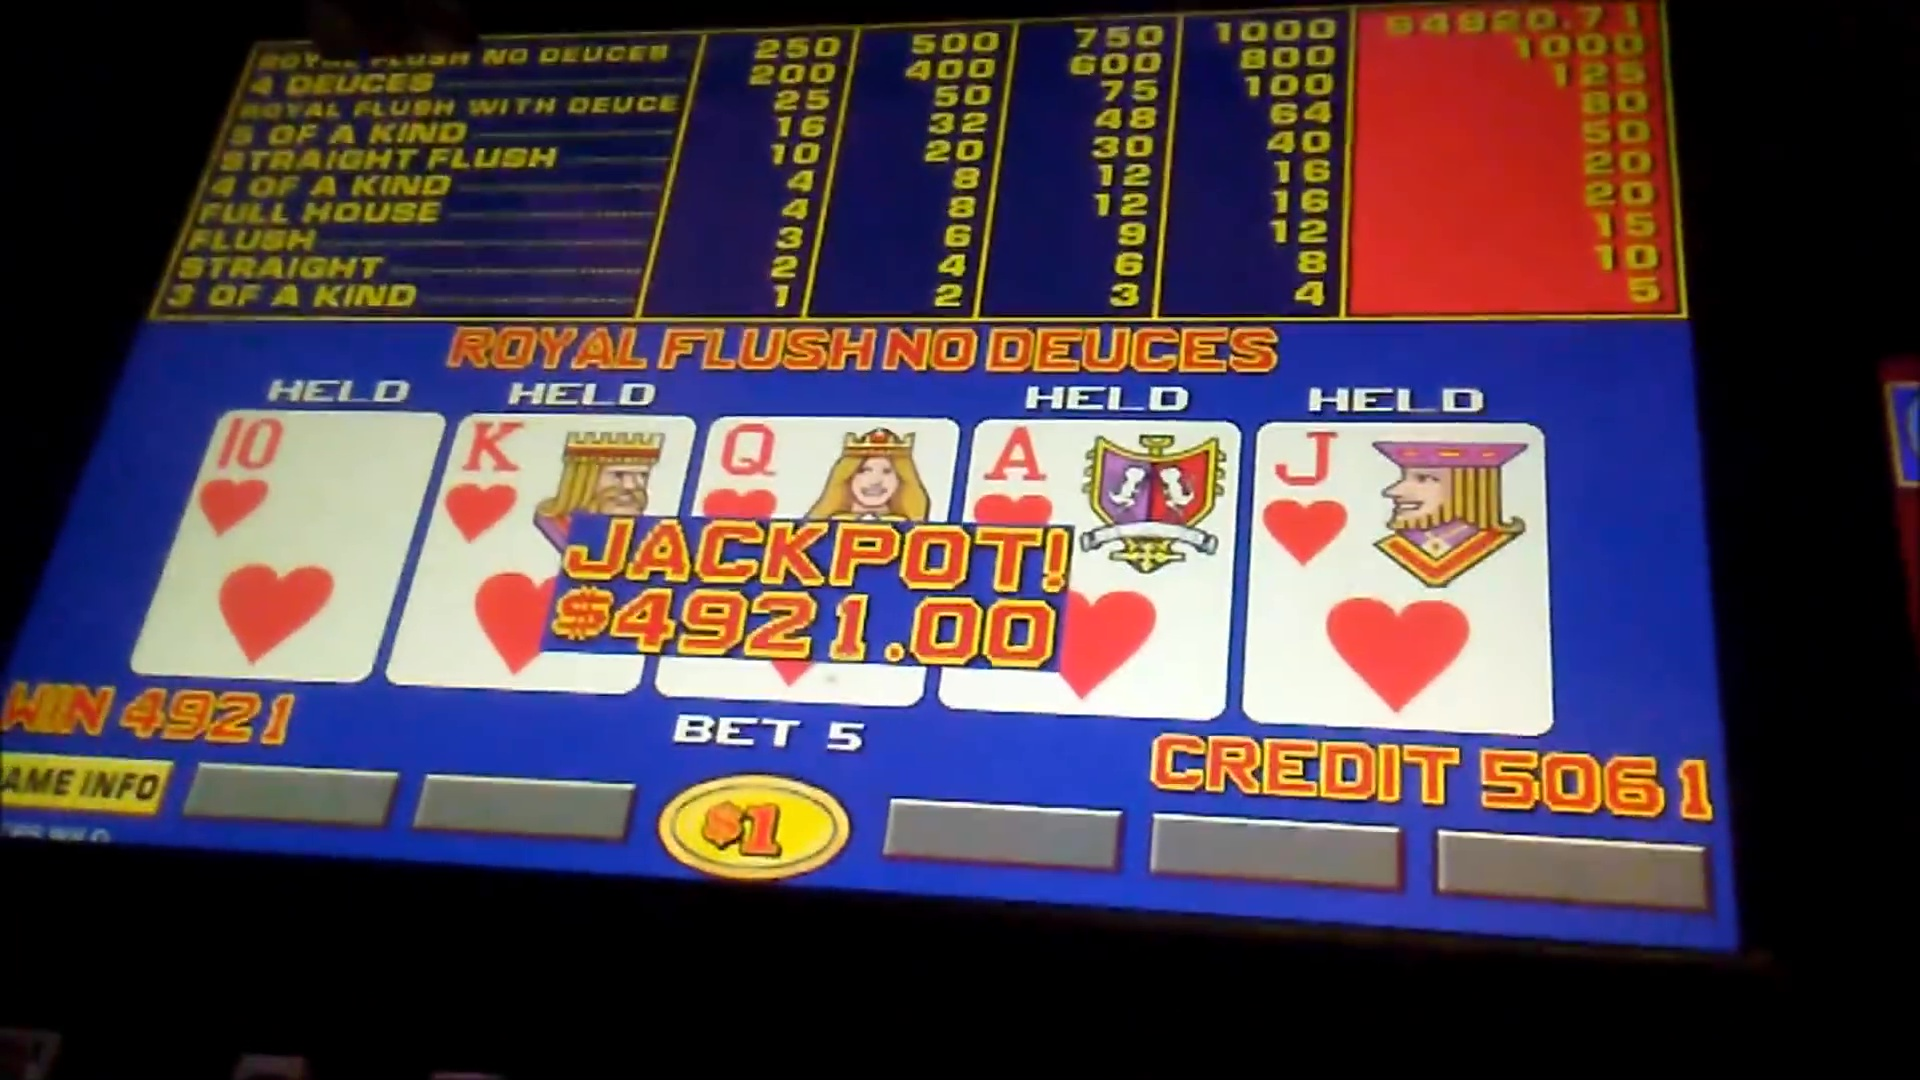JH: (1261, 419, 1545, 583)
ah: (982, 422, 1232, 522)
kh: (451, 415, 651, 510)
qh: (712, 415, 947, 513)
th: (211, 407, 407, 541)
